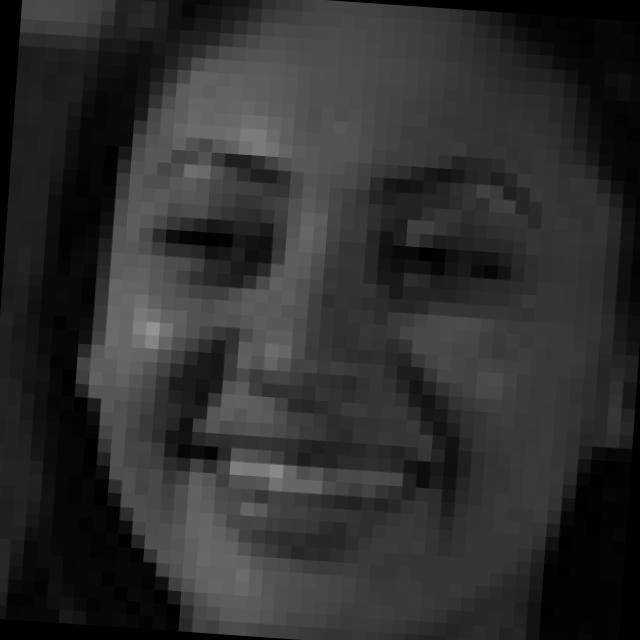happy: (113, 127, 546, 588)
